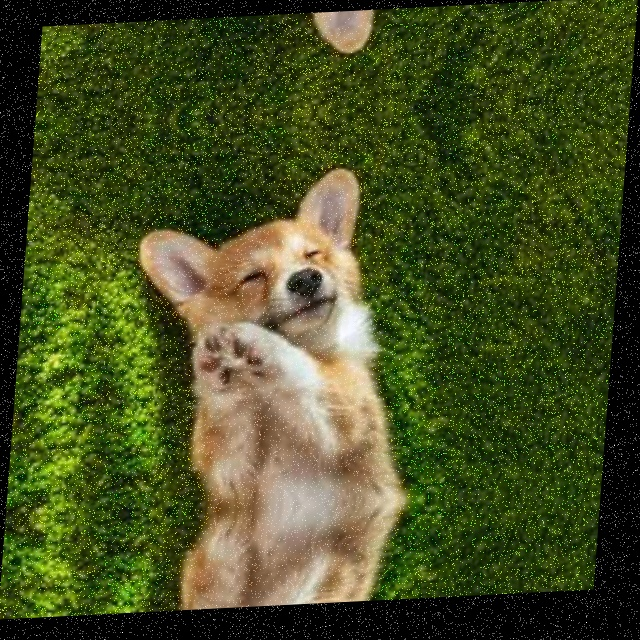dog: (124, 143, 404, 381), (147, 8, 415, 84)
